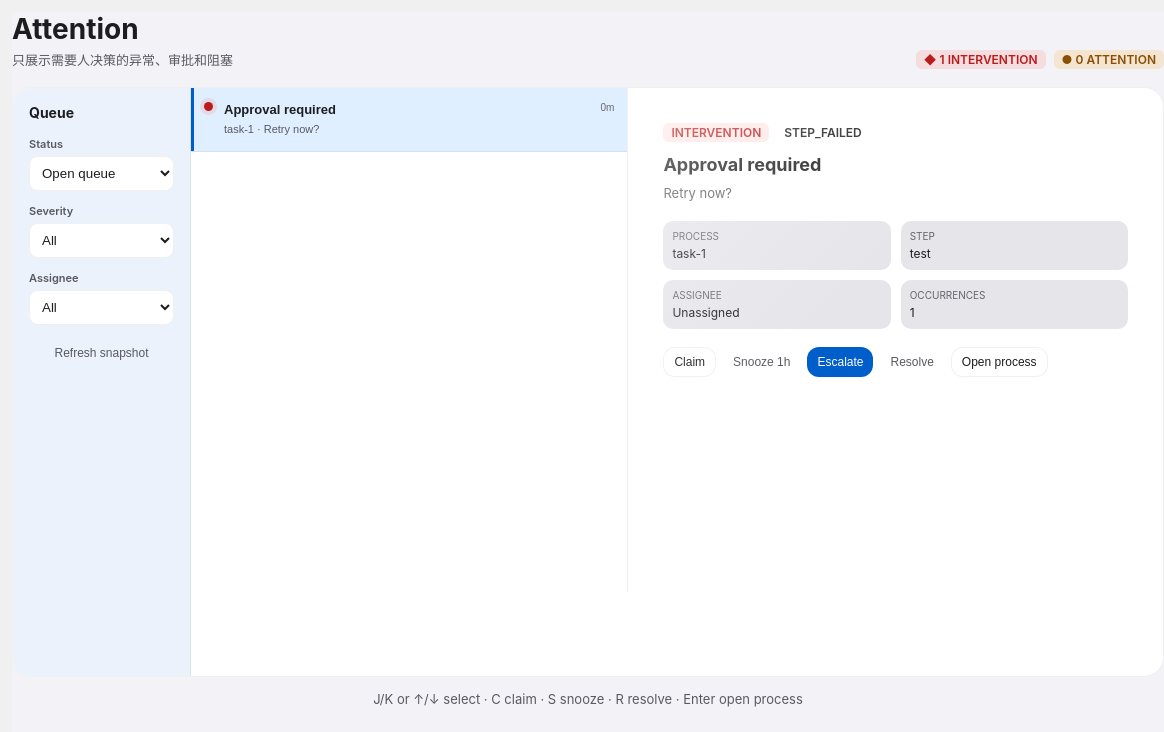
Scenario: AttentionInbox component › uses the shared failure/reconciliation contract for snooze
Check: the text "Retry now?" is shown, box 663,185 -> 732,201
Click the button "Snooze 1h".
click(762, 362)  # box 723,347 -> 800,377
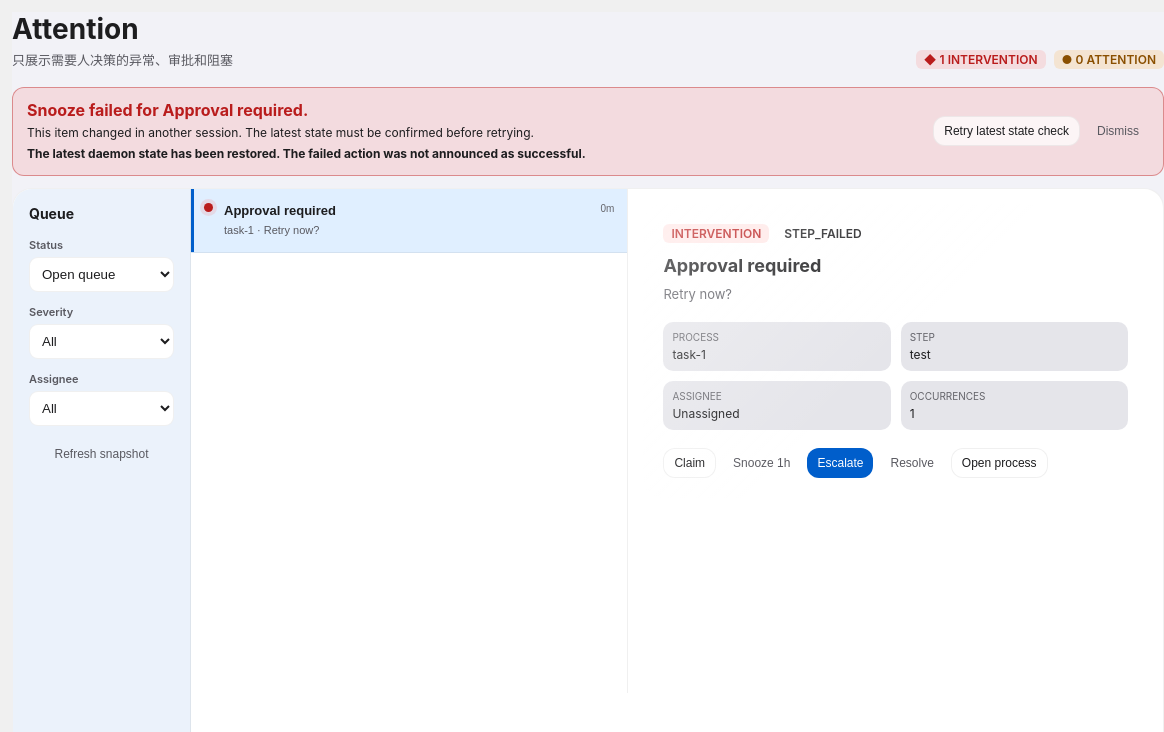
Check: the message shows "latest daemon state has been restored", box 27,146 -> 586,161
